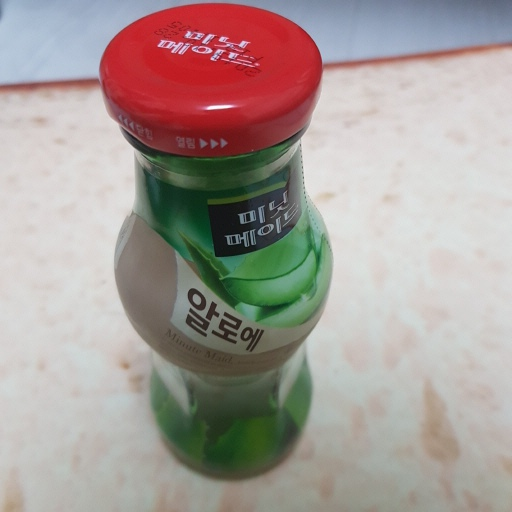Glass_4: (91, 4, 343, 478)
